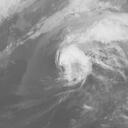cyclone: (54, 45, 93, 86)
